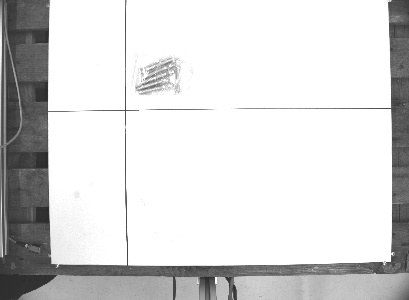t2: (125, 43, 203, 101)
